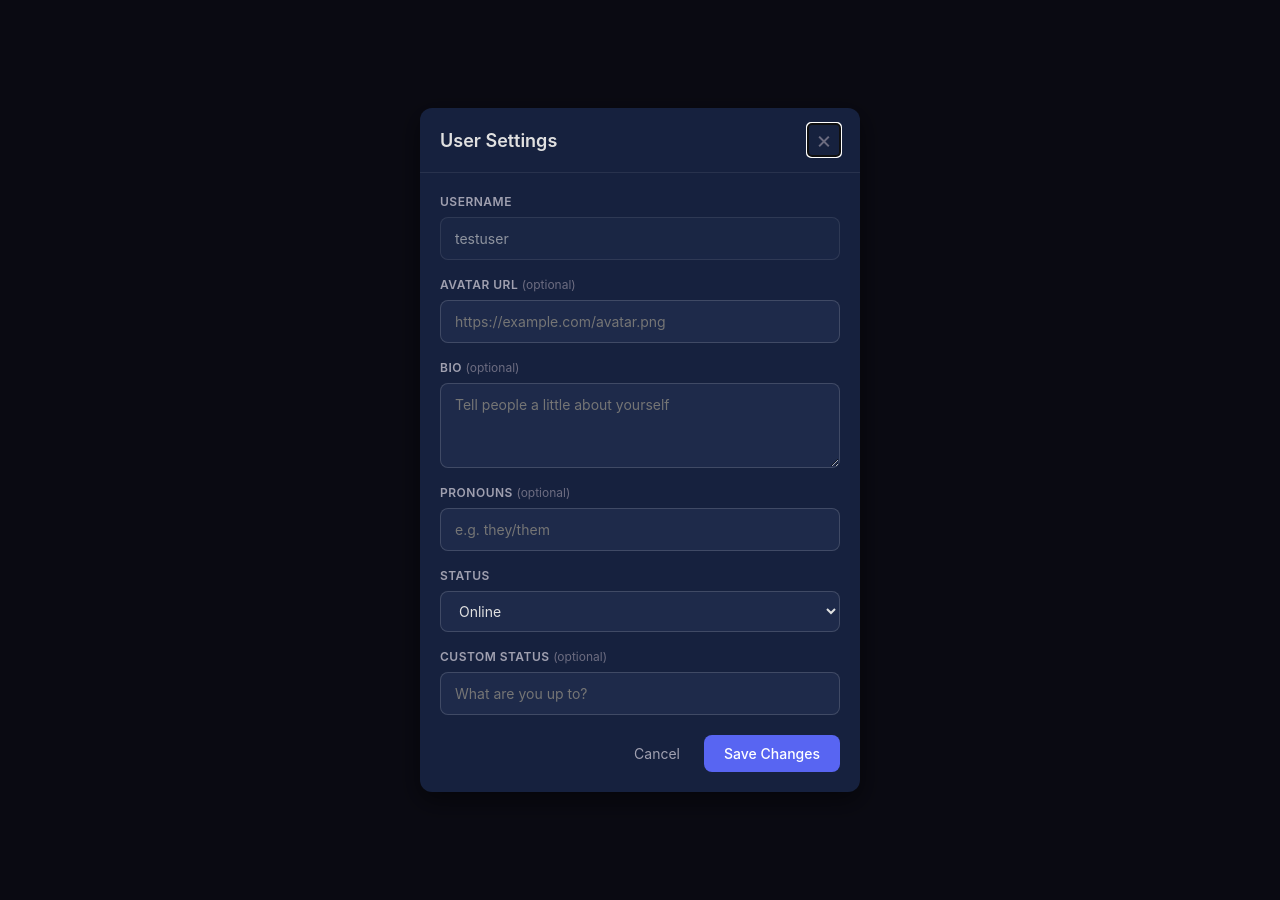
Test case: UserSettingsModal — form submission › displays error message when updateProfile fails
Click the button "Save Changes": (772, 754) [704, 735, 840, 772]
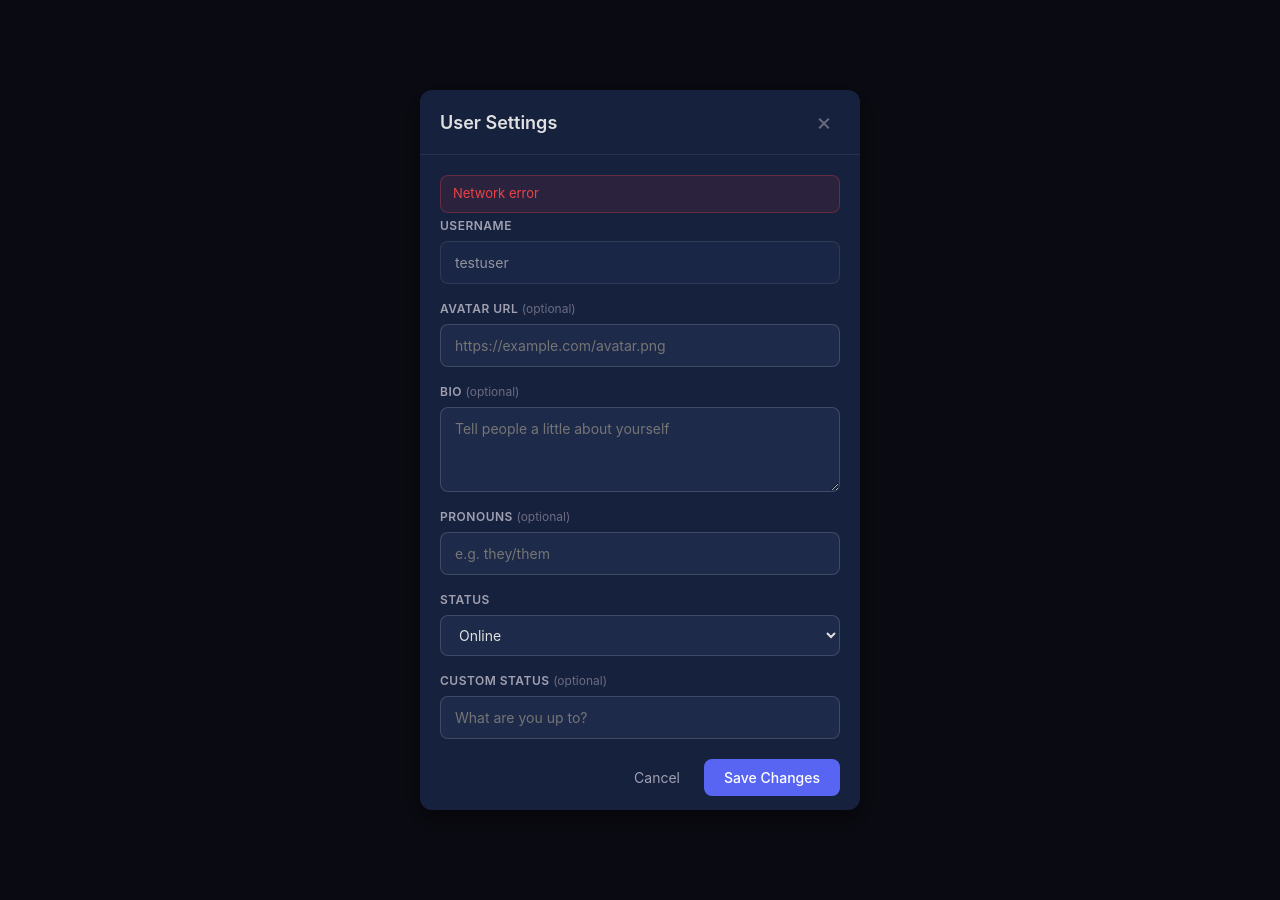
Expected: the text "Network error" is shown, [440, 175, 840, 212]
